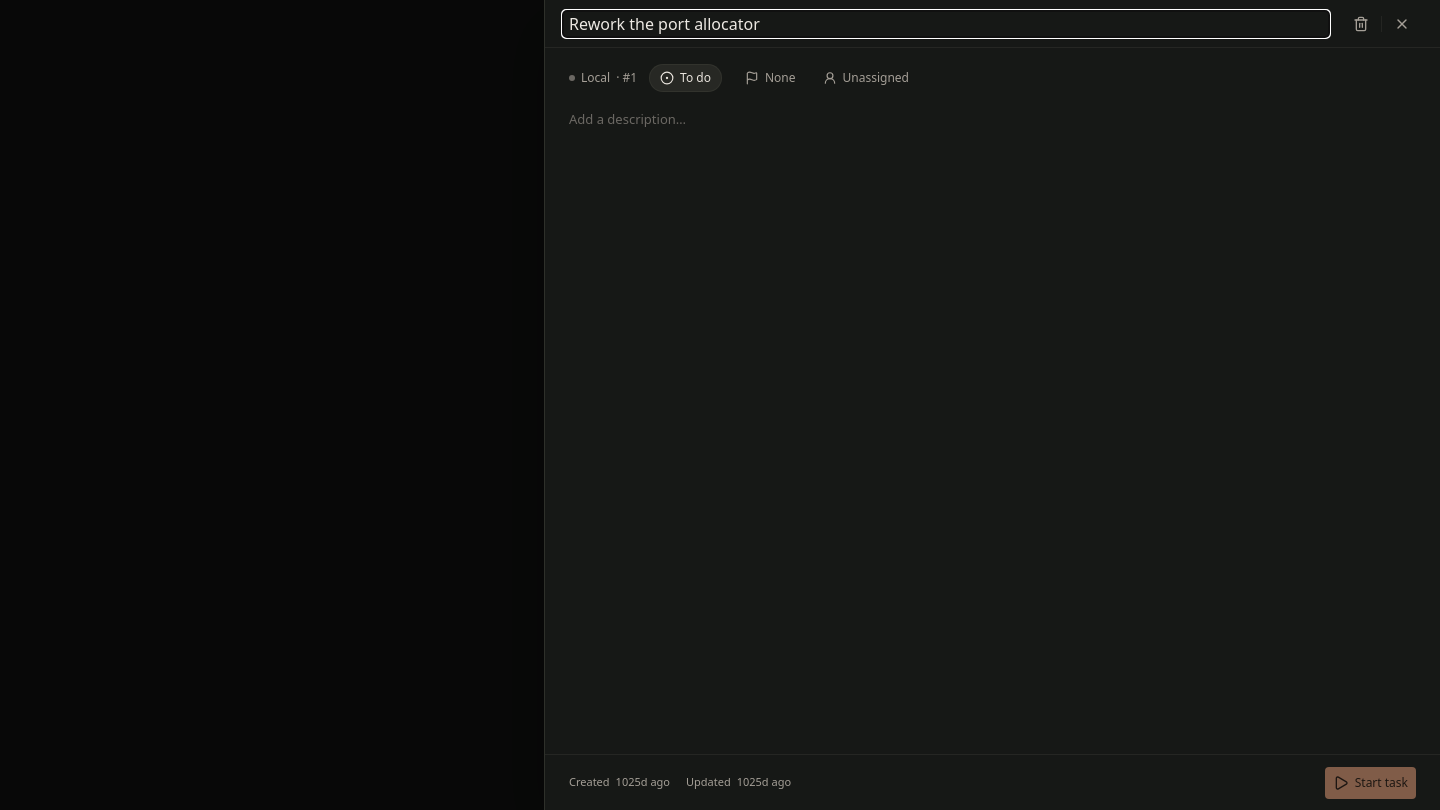
Test case: WorkItemDrawer › writes a description on a local item and shows what was saved
Click the button "Add a description…": {"x": 628, "y": 120} left=569, top=110, right=686, bottom=130
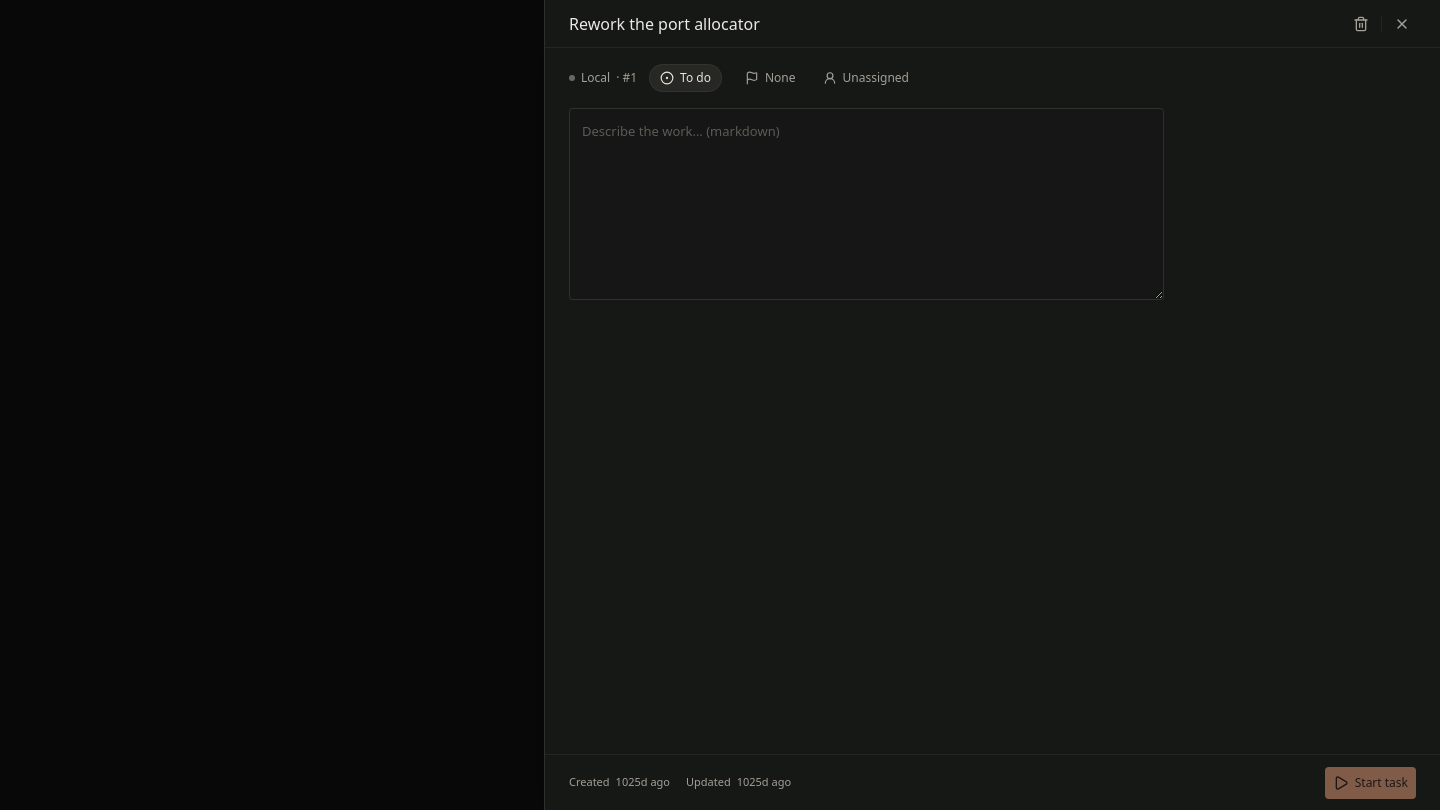
In the text box named "Description": {"x": 866, "y": 204} left=569, top=108, right=1164, bottom=300, type "It runs out at 40."
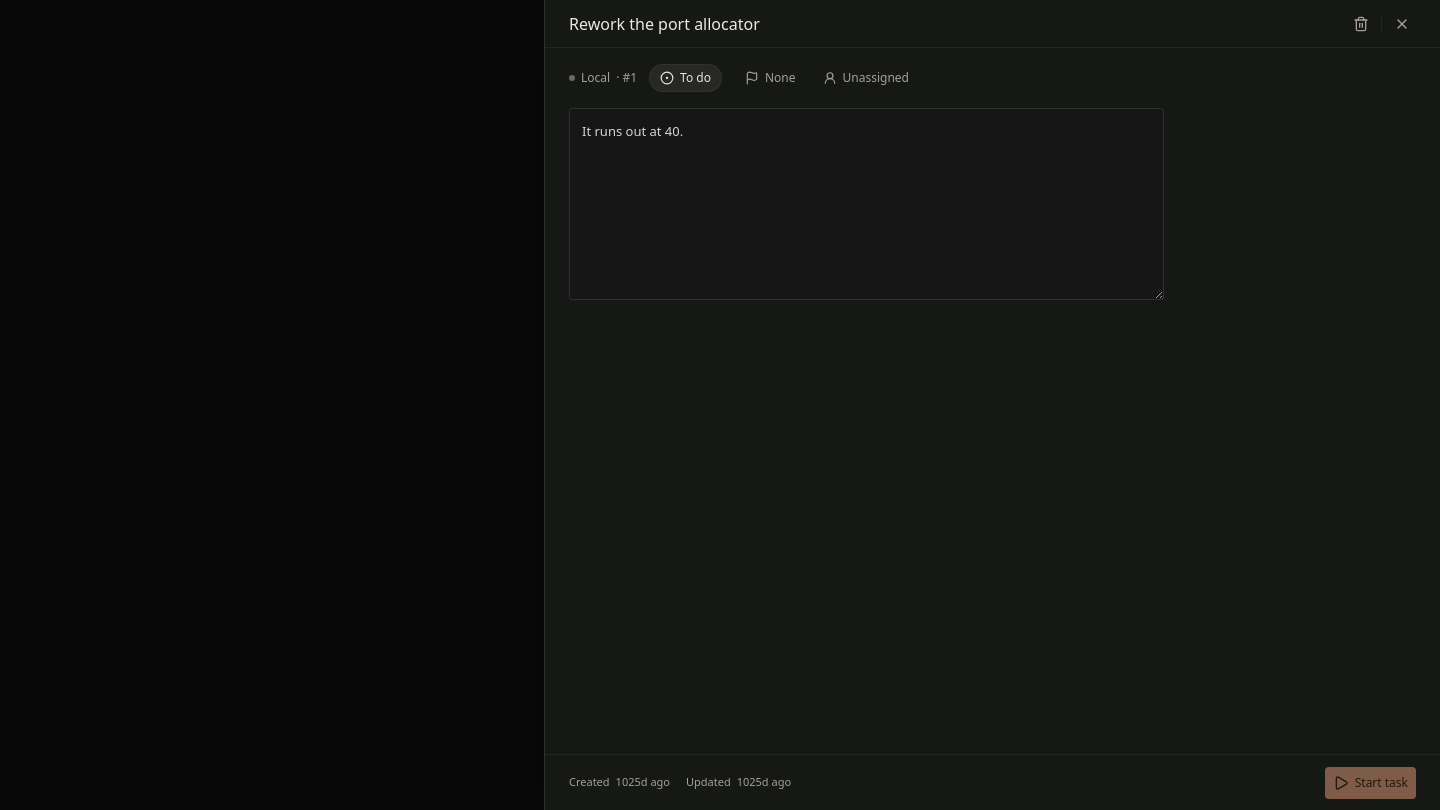
# Clicking away commits, the way a note-taking field is expected to.
Press Tab
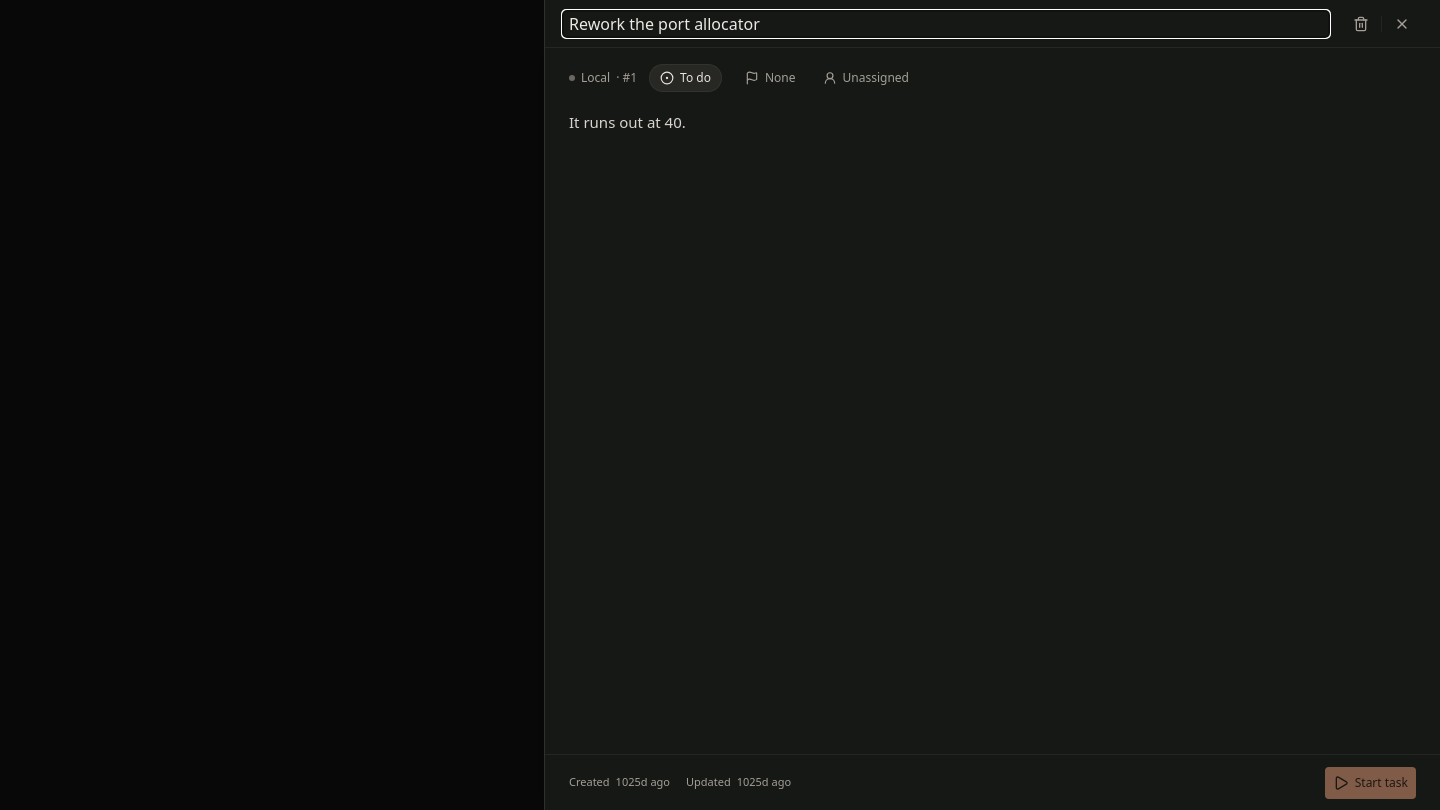
Now the text "It runs out at 40." is shown, box left=569, top=112, right=686, bottom=132
